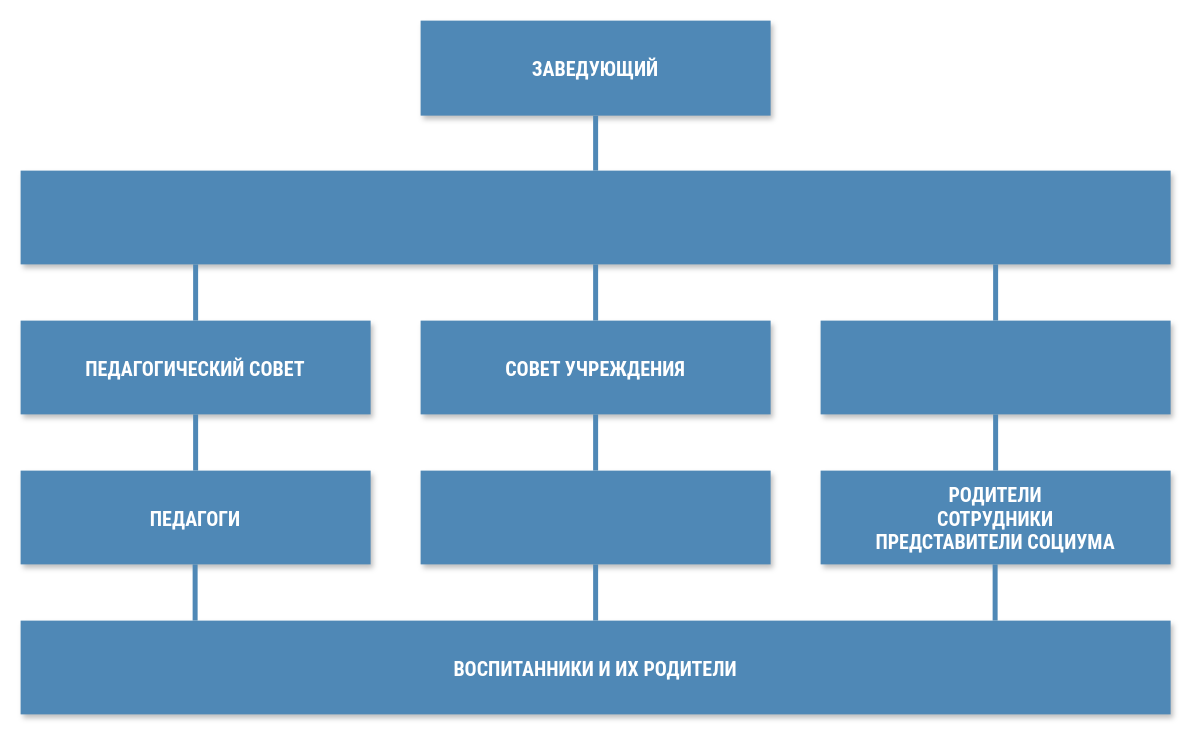
Image size: 1191x735. Some labels were removed from this diagram. Each missing label, with the centre of its shape:
ОБЩЕЕ СОБРАНИЕ: pixel 996 368
ОРГАНЫ ОБЩЕСТВЕННОГО САМОУПРАВЛЕНИЯ: pixel 596 218
РОДИТЕЛИ СОТРУДНИКИ: pixel 596 518
